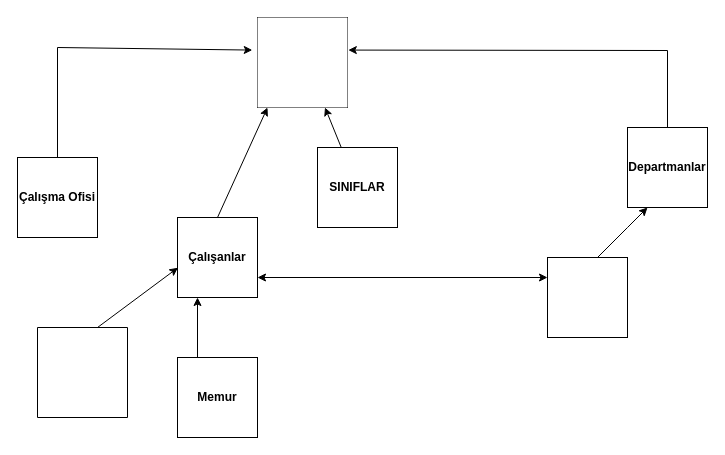
This 725x455 diagram has some shape labels left out. Here are the shapes that lost their labels. From the top down, the box of each, then its label:
(257, 17, 347, 107): Üniversite
(546, 256, 628, 338): Ofisler
(36, 326, 128, 418): Profesör
